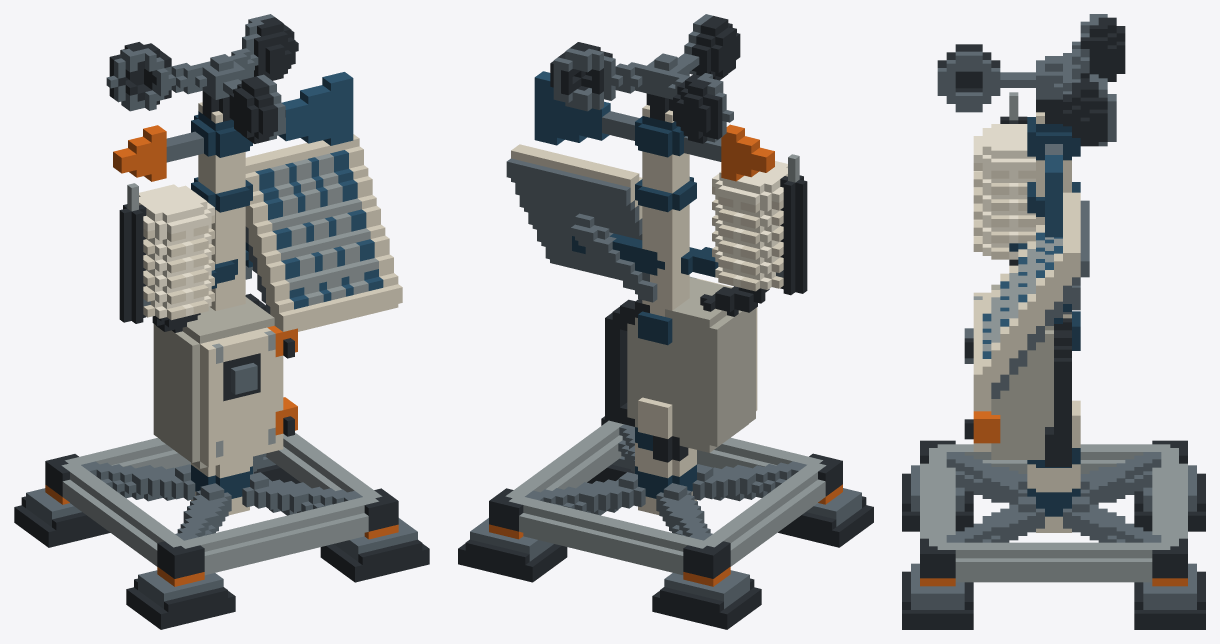
Rendered from weather_instrument.glb.
The picture shows the model from 3 angles, left to right: view 1: azimuth 30°, elevation 25°; view 2: azimuth 150°, elevation 25°; view 3: azimuth 270°, elevation 25°; orthographic projection. The views are drawn at different scales.
Visible parts, largest first — view 1: weather_instrument; view 2: weather_instrument; view 3: weather_instrument.
Boxes of the visible parts, left/top/right/bottom form: weather_instrument: left=14, top=14, right=429, bottom=629; weather_instrument: left=458, top=14, right=873, bottom=629; weather_instrument: left=902, top=14, right=1205, bottom=629.
Bounding box in the file's own units: 1.85 × 3.15 × 1.7.
